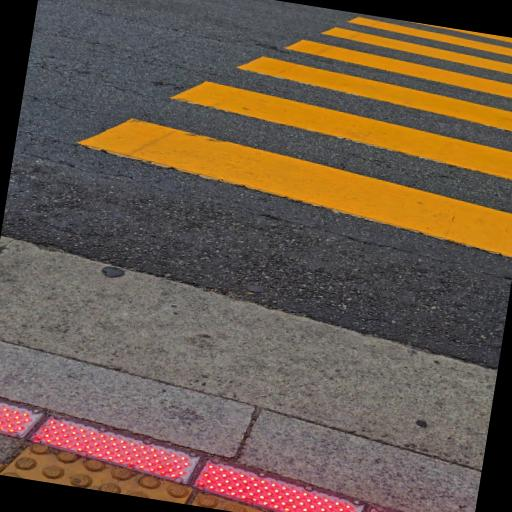yellow-crosswalk: (7, 0, 512, 270)
